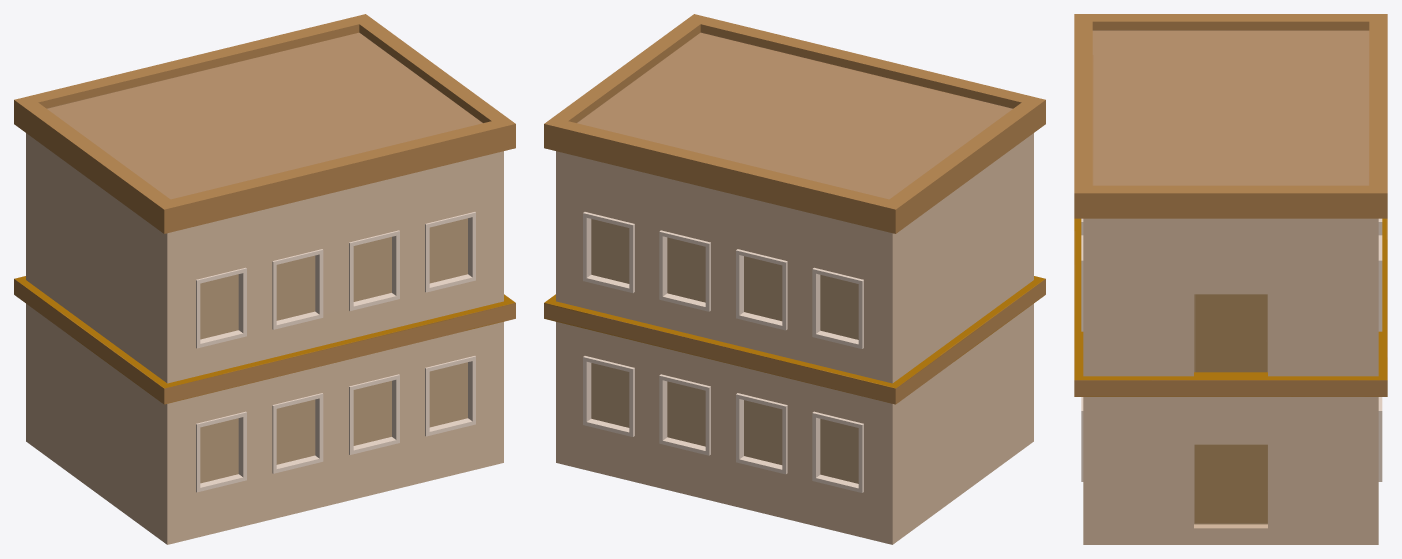
File: Huis_02.fbx
The picture shows the model from 3 angles, left to right: view 1: azimuth 30°, elevation 25°; view 2: azimuth 150°, elevation 25°; view 3: azimuth 270°, elevation 25°; orthographic projection. The views are drawn at different scales.
Parts seen in each view (by area): view 1: Huis_02, Top_01, Mid_03, Raam_032, Raam_037, Raam_031, Raam_038, Raam_034, Raam_035, Raam_033, Raam_036; view 2: Huis_02, Top_01, Mid_03, Raam_046, Raam_039, Raam_041, Raam_042, Raam_043, Raam_044, Raam_040, Raam_045; view 3: Huis_02, Top_01, Mid_03, Raam_042, Raam_043.
Boxes of the visible parts, x1=… form: Huis_02: x1=26, y1=133, x2=503, y2=544; Top_01: x1=14, y1=14, x2=515, y2=233; Mid_03: x1=14, y1=276, x2=515, y2=404; Raam_032: x1=272, y1=249, x2=323, y2=329; Raam_037: x1=272, y1=393, x2=323, y2=473; Raam_031: x1=196, y1=267, x2=246, y2=348; Raam_038: x1=196, y1=411, x2=246, y2=492; Raam_034: x1=425, y1=212, x2=475, y2=292; Raam_035: x1=425, y1=356, x2=475, y2=436; Raam_033: x1=349, y1=230, x2=399, y2=310; Raam_036: x1=349, y1=374, x2=399, y2=454; Huis_02: x1=556, y1=133, x2=1033, y2=544; Top_01: x1=544, y1=14, x2=1045, y2=233; Mid_03: x1=544, y1=276, x2=1045, y2=404; Raam_046: x1=812, y1=411, x2=863, y2=492; Raam_039: x1=812, y1=267, x2=863, y2=348; Raam_041: x1=659, y1=230, x2=710, y2=311; Raam_042: x1=583, y1=212, x2=634, y2=292; Raam_043: x1=583, y1=356, x2=634, y2=436; Raam_044: x1=659, y1=374, x2=710, y2=455; Raam_040: x1=736, y1=249, x2=787, y2=330; Raam_045: x1=736, y1=393, x2=787, y2=474; Huis_02: x1=1083, y1=218, x2=1378, y2=544; Top_01: x1=1074, y1=14, x2=1387, y2=218; Mid_03: x1=1074, y1=218, x2=1387, y2=396; Raam_042: x1=1378, y1=235, x2=1382, y2=331; Raam_043: x1=1378, y1=397, x2=1382, y2=481.
Bounding box in the file's own units: 0.023 × 0.0213 × 0.017.
